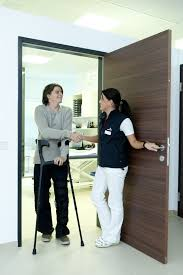crutches: (32, 84, 84, 254)
